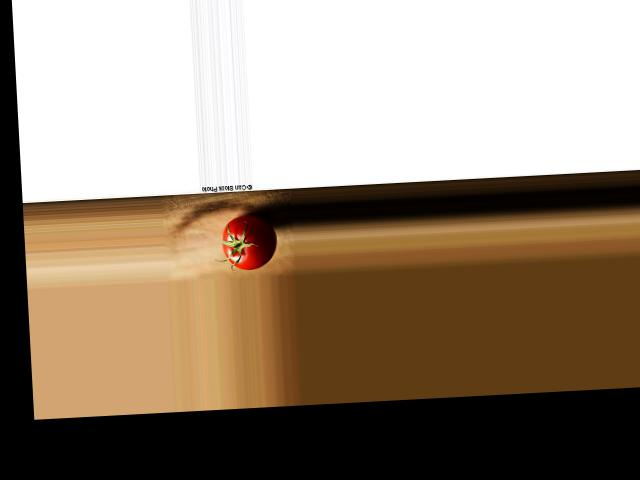tomato: (220, 213, 277, 269)
